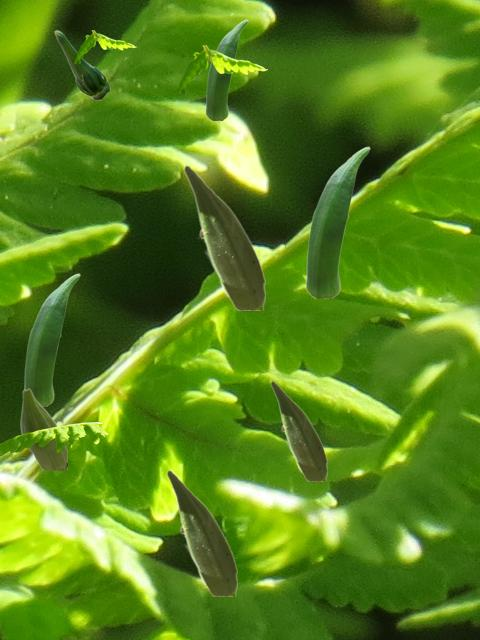okra: (183, 164, 264, 309), (305, 146, 369, 297), (166, 469, 236, 595), (23, 273, 79, 405), (270, 380, 326, 480), (205, 19, 247, 119), (54, 30, 109, 99), (20, 388, 66, 469)
